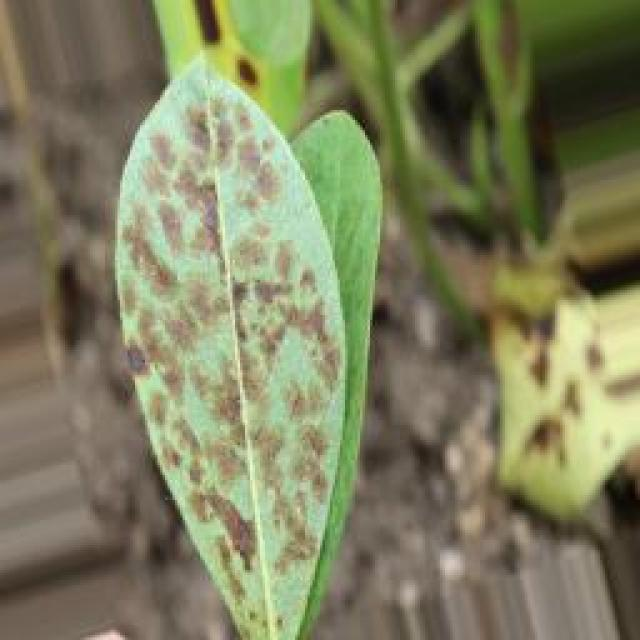Whitefly: (63, 52, 400, 640)
